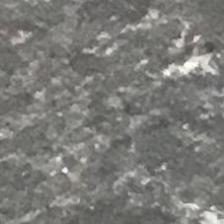Non_Crack: (16, 18, 224, 173)
